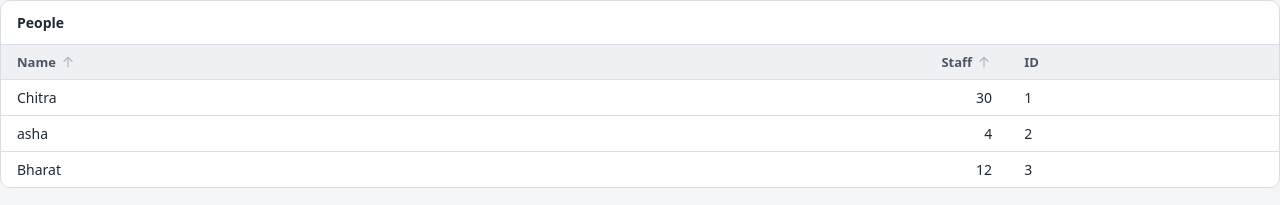
Scenario: DataTable › sorts by a column, toggles direction and announces it
This screenshot has width=1280, height=205.
Later steps or results of the test are not shown.
Click the button "Name" at (46, 62), box x1=17 y1=53 x2=76 y2=71
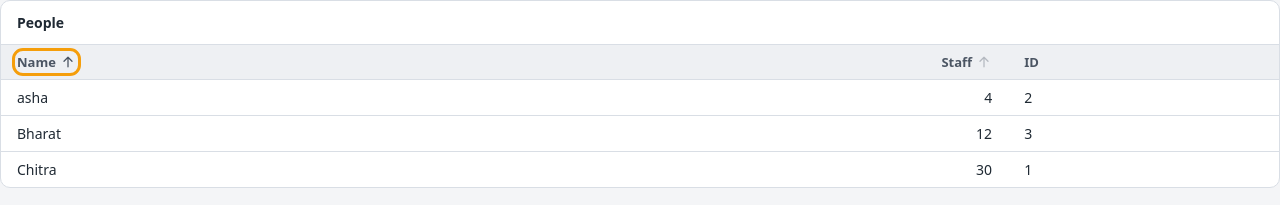
Check: the column heading "Name" has attribute aria-sort="ascending", box x1=1 y1=44 x2=528 y2=80
